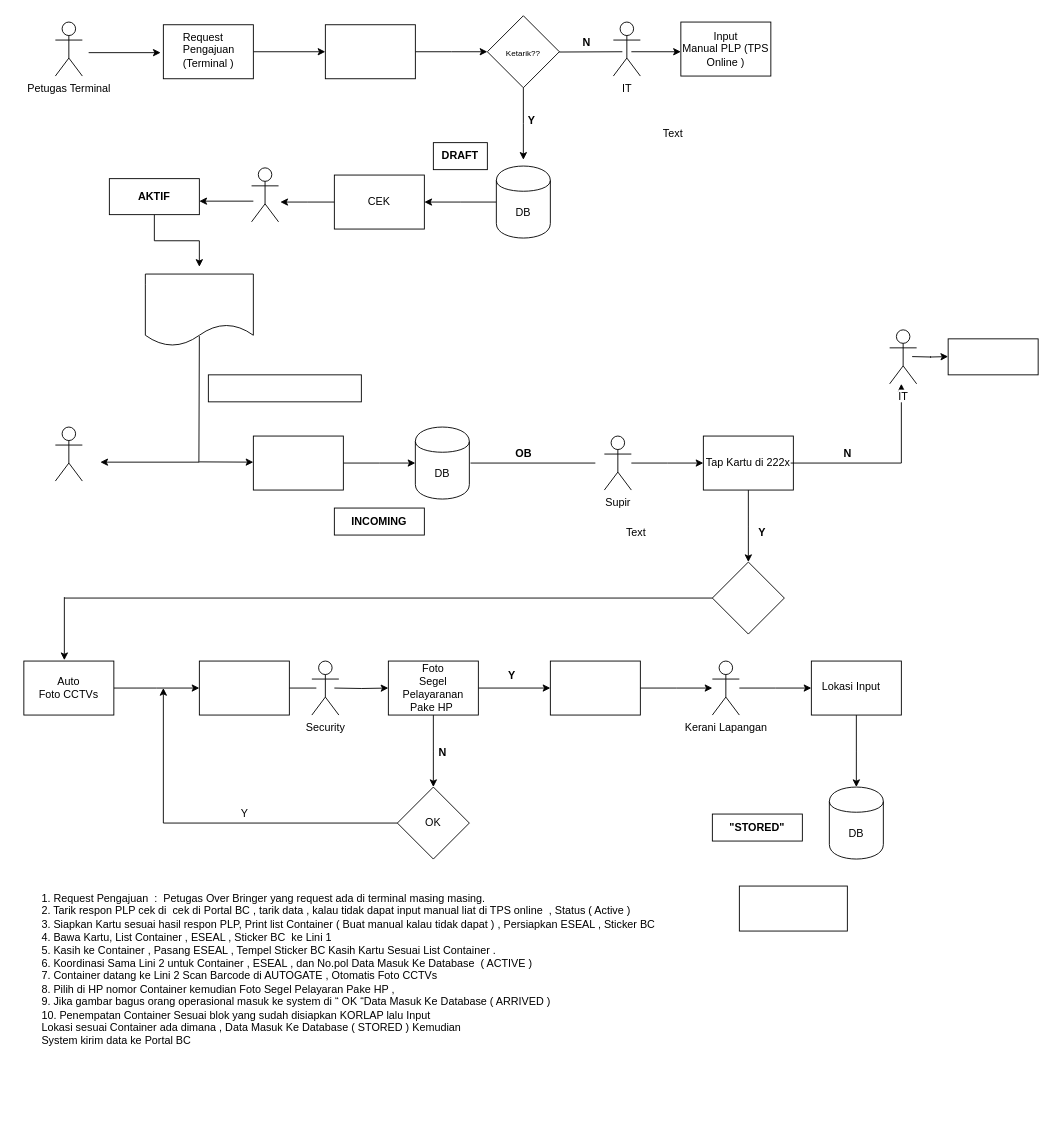
This 1054x1136 diagram has some shape labels left out. The box of each missing label's shape, as (x1, y1, x2, y2) in pixels:
Arrived: (711, 561, 784, 634)
COARRICODECO IN: (738, 885, 847, 931)
Input Eseal + Nopol + Bruto: (252, 435, 343, 490)
Kartu List Container + Sticker BC ( ESEAL ): (144, 273, 253, 346)
MONITORING: (947, 338, 1038, 375)
Penimbunan container: (549, 660, 640, 715)
Petugas Operasional: (251, 167, 279, 222)
Petugas Over Bringen: (54, 426, 82, 481)
Pilih Di HP No Container: (198, 660, 289, 715)
Tarik Respon PLP: (324, 24, 415, 79)
“ BAWA KE TERMINAL LINI 1 “: (207, 374, 361, 402)
